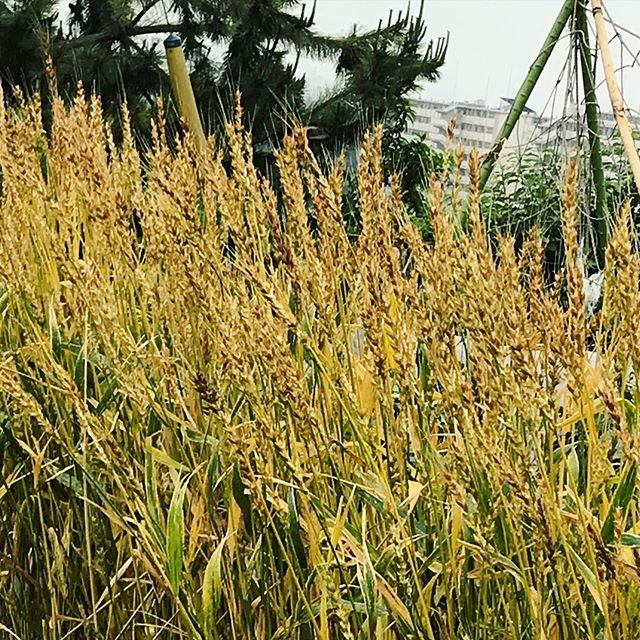vegetation: (2, 5, 640, 640)
